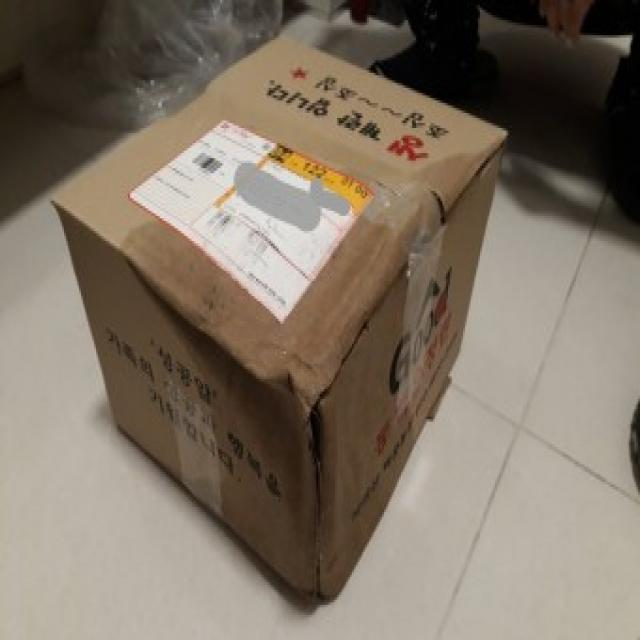wet: (116, 128, 492, 603)
